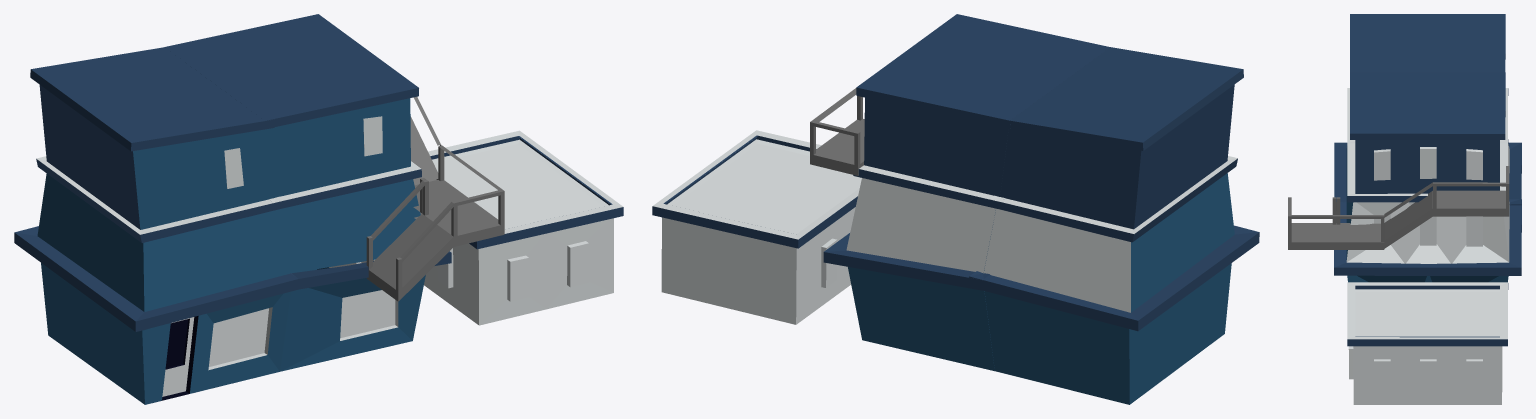
The model's file is bigbigbuild.fbx.
The picture shows the model from 3 angles, left to right: view 1: azimuth 30°, elevation 25°; view 2: azimuth 150°, elevation 25°; view 3: azimuth 270°, elevation 25°; orthographic projection. The views are drawn at different scales.
Parts seen in each view (by area): view 1: Cube, Cube.016, Cube.014, Cube.013; view 2: Cube, Cube.016; view 3: Cube, Cube.016, Cube.015, Cube.013.
Part boxes in pixels (left/top/right/bottom): Cube: left=14, top=14, right=504, bottom=404; Cube.016: left=424, top=130, right=623, bottom=325; Cube.014: left=437, top=241, right=588, bottom=301; Cube.013: left=224, top=116, right=382, bottom=188; Cube: left=810, top=14, right=1259, bottom=404; Cube.016: left=652, top=130, right=861, bottom=324; Cube: left=1288, top=14, right=1521, bottom=282; Cube.016: left=1347, top=282, right=1508, bottom=404; Cube.015: left=1374, top=359, right=1482, bottom=391; Cube.013: left=1374, top=147, right=1482, bottom=223.
Bounding box in the file's own units: 1866 × 970 × 986.
